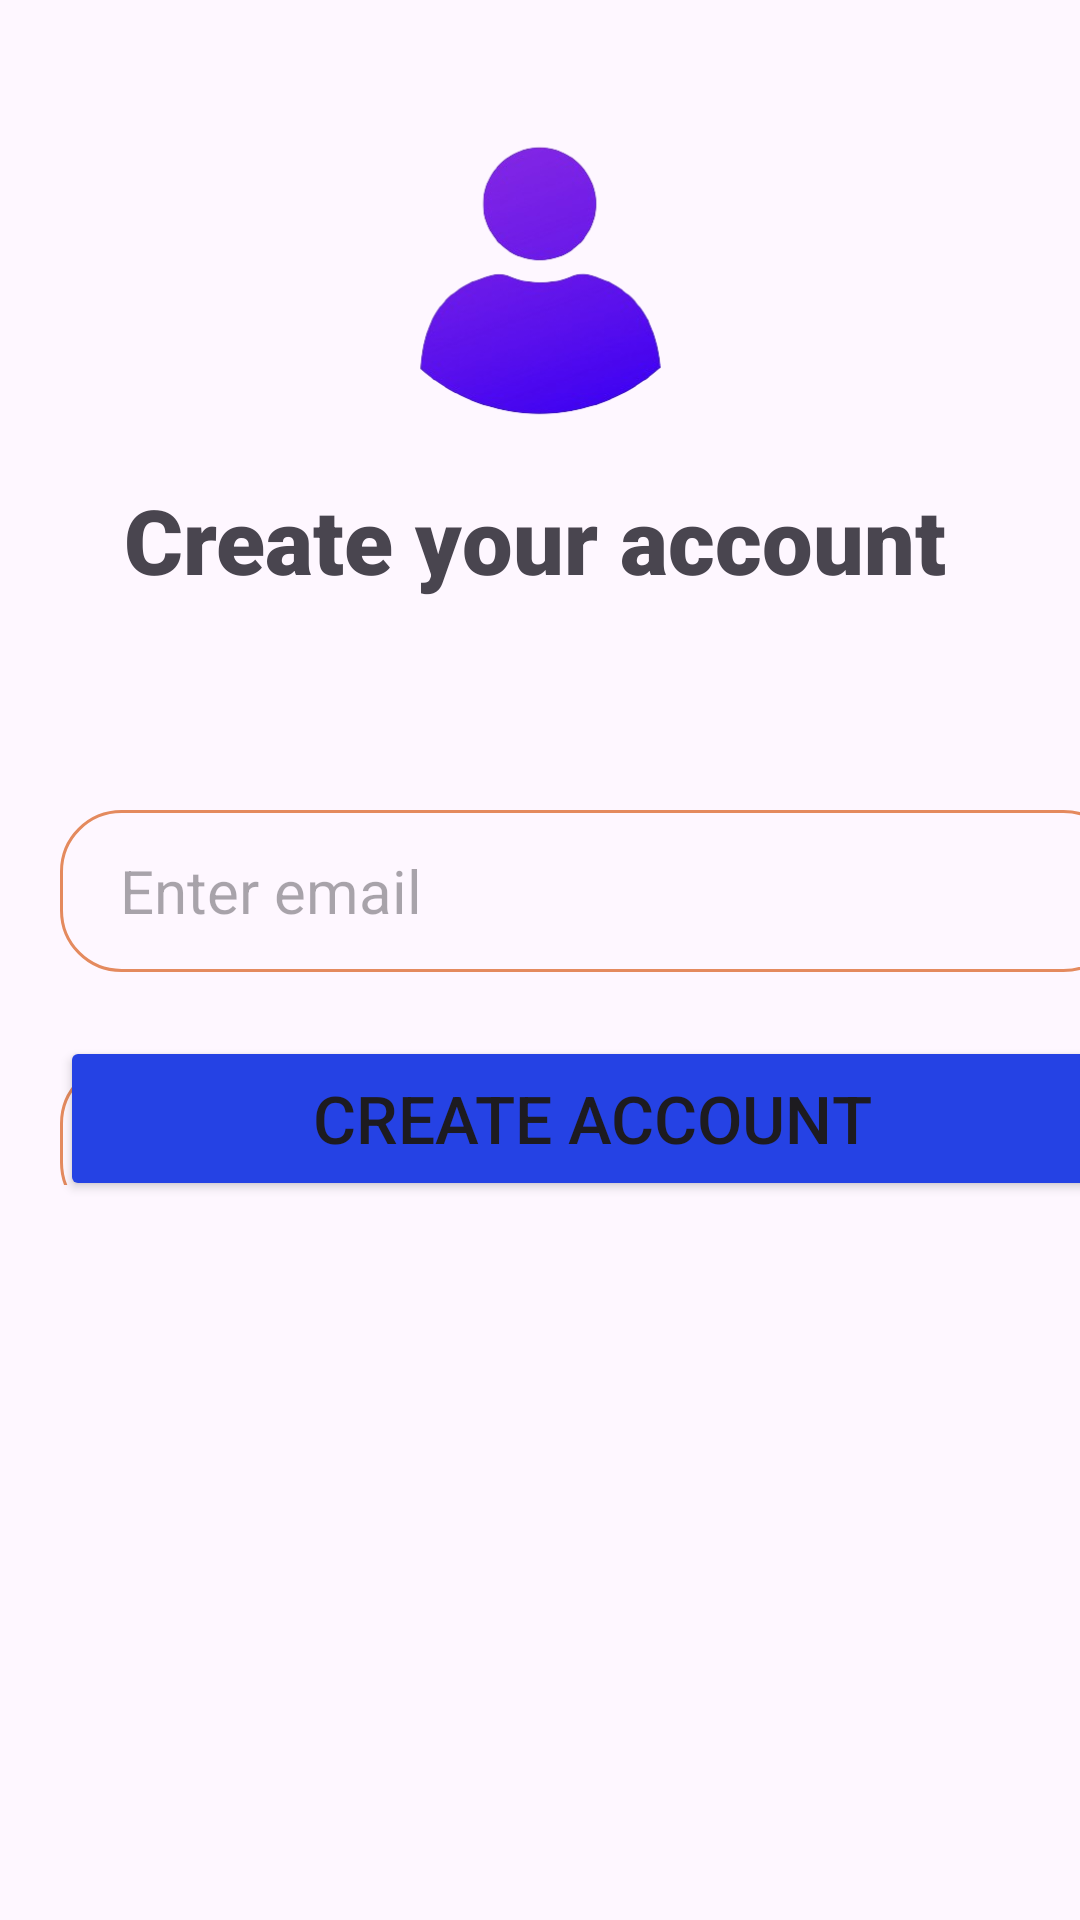

Icon bounding boxes for this 1080 x 1920 phone screenshot, format (x1, y1, x2, y2):
user login: (420, 147, 661, 415)
